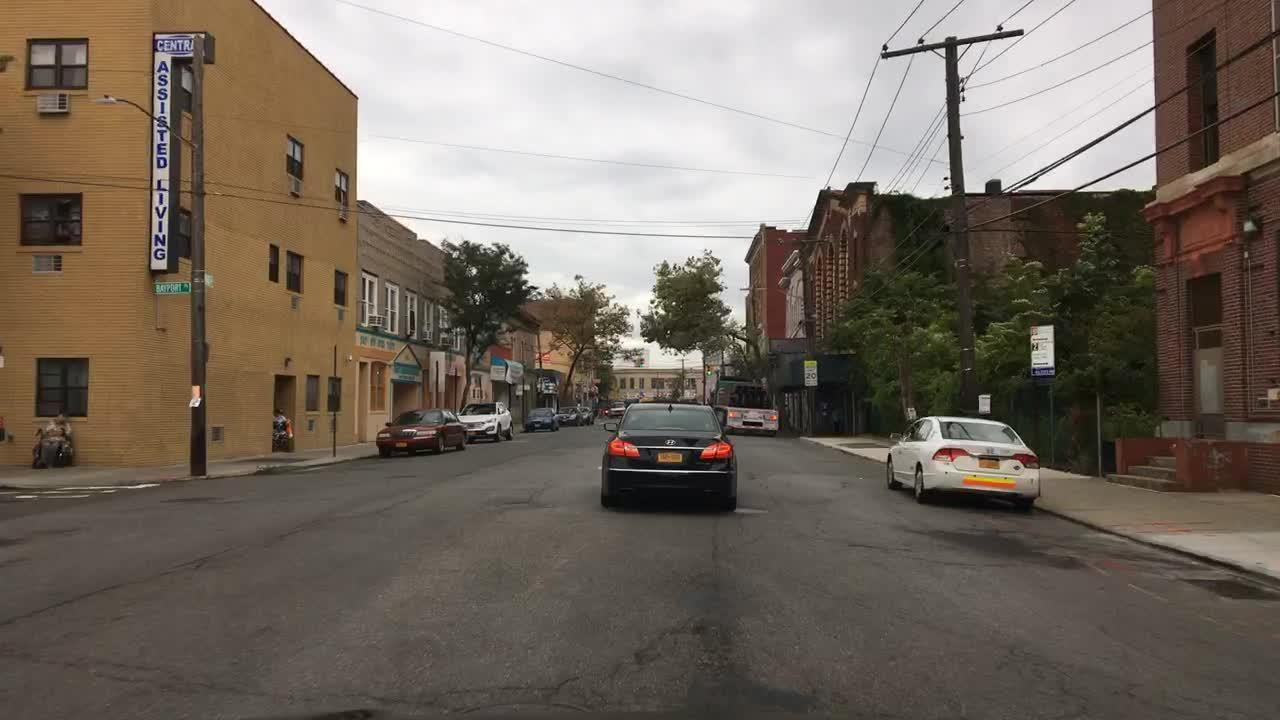Hyundai: (663, 436, 679, 450)
